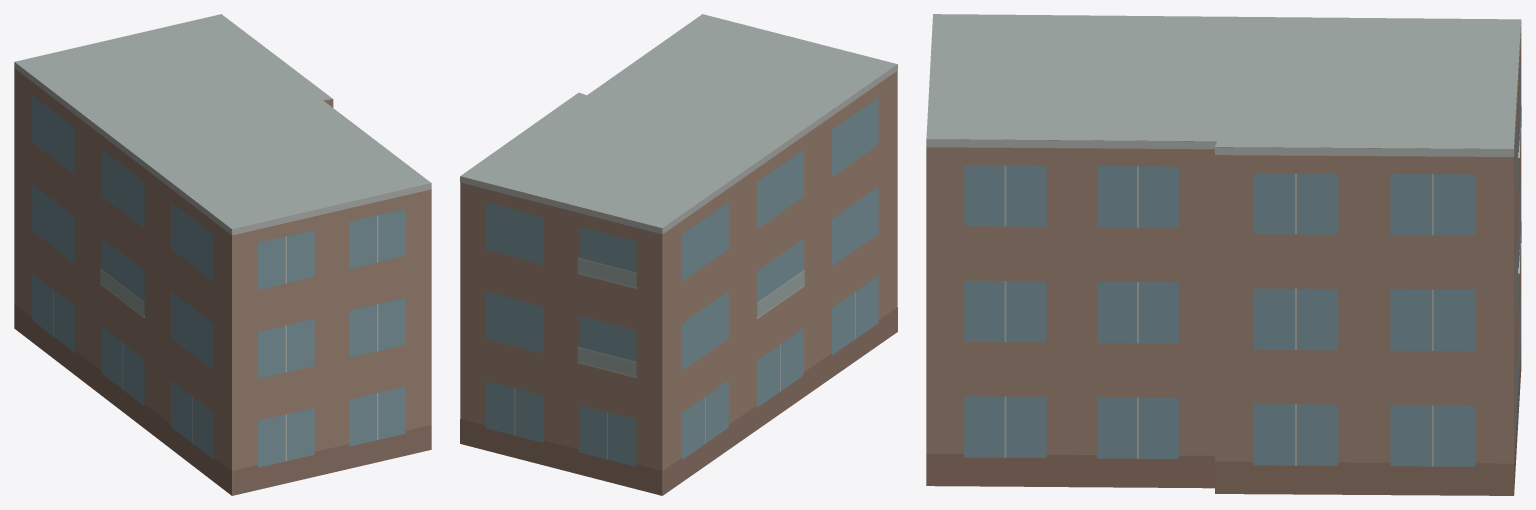
File: survey-upis-32765230.glb
3 views of the same model, side by side, from view 1: azimuth 30°, elevation 25°; view 2: azimuth 150°, elevation 25°; view 3: azimuth 270°, elevation 25° (orthographic). The views are drawn at different scales.
Parts seen in each view (by area): view 1: survey-upis-32765230.tmp; view 2: survey-upis-32765230.tmp; view 3: survey-upis-32765230.tmp.
Part boxes in pixels (box(x1,y1,x2,y2)): survey-upis-32765230.tmp: box(14, 14, 431, 495); survey-upis-32765230.tmp: box(460, 14, 897, 495); survey-upis-32765230.tmp: box(926, 14, 1521, 495).
Bounding box in the file's own units: 8.77 × 10.5 × 16.34.
